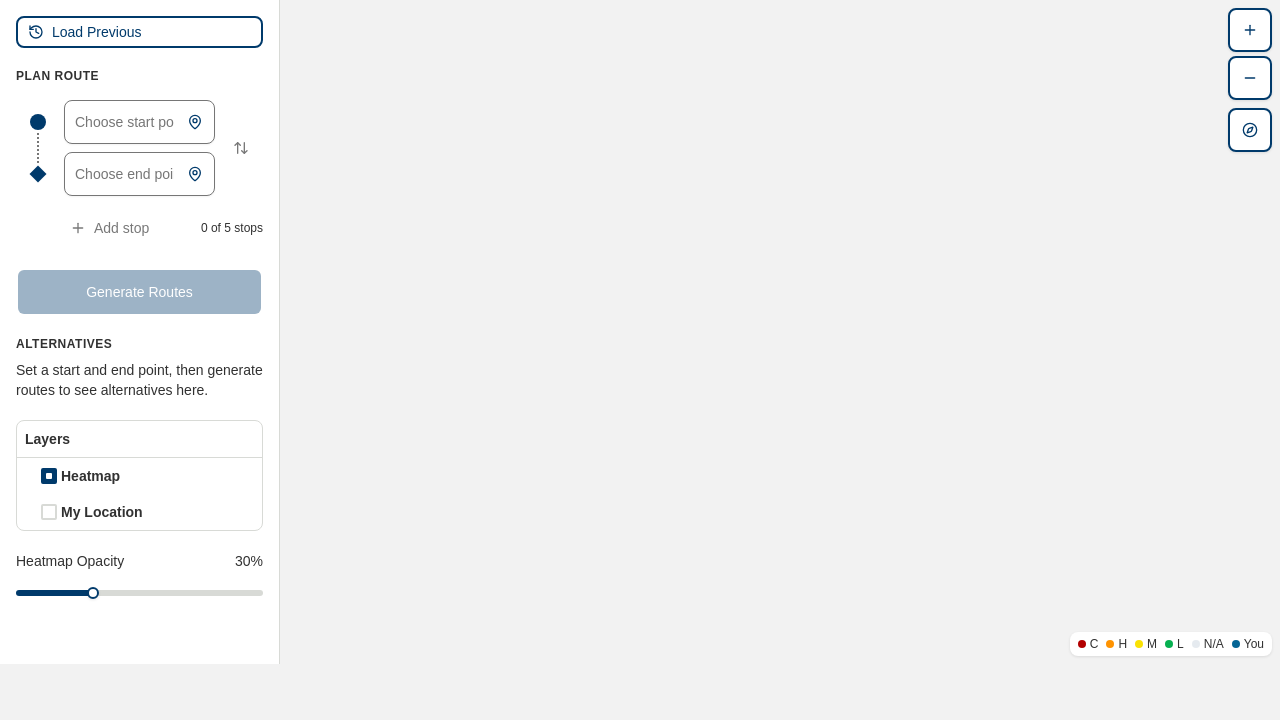
Scenario: PatrolPlannerPage › saves the selected route and marks its card as saved
In the field labelled "Choose start point": (140, 122) [64,100,215,144], type "-24.3, 31.05"
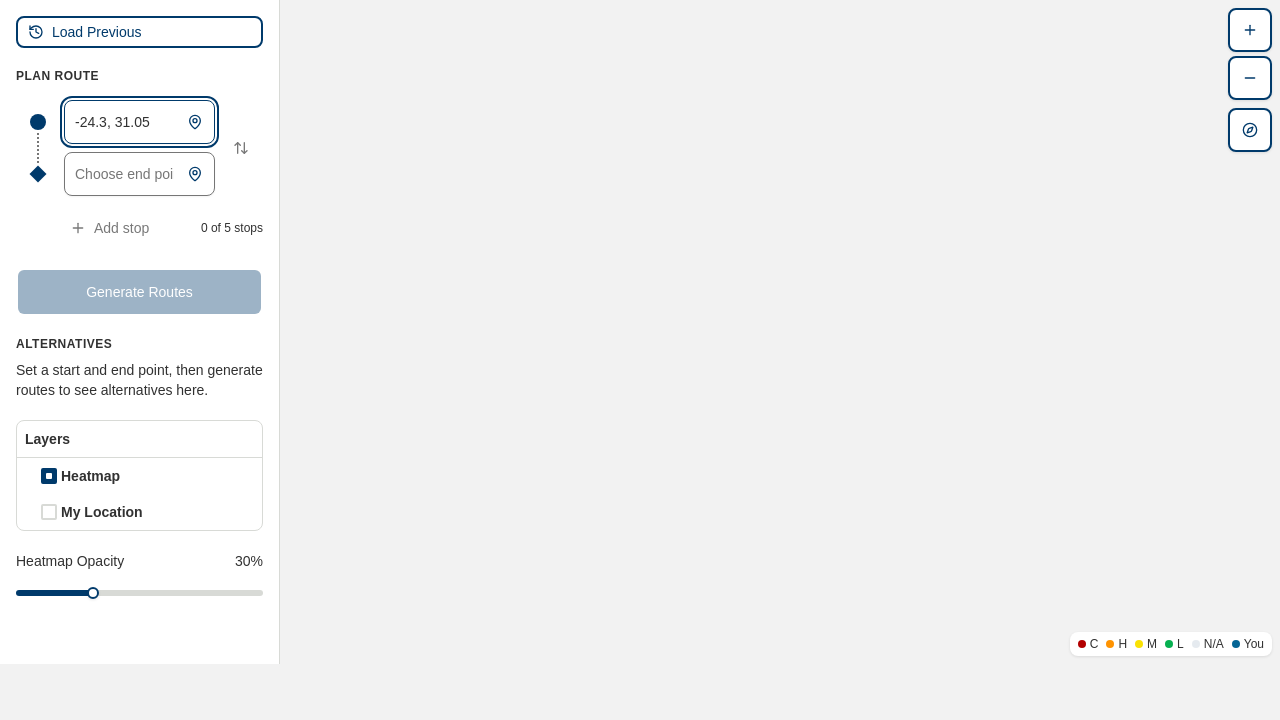
In the field labelled "Choose end point": (140, 174) [64,152,215,196], type "-24.32, 31.08"
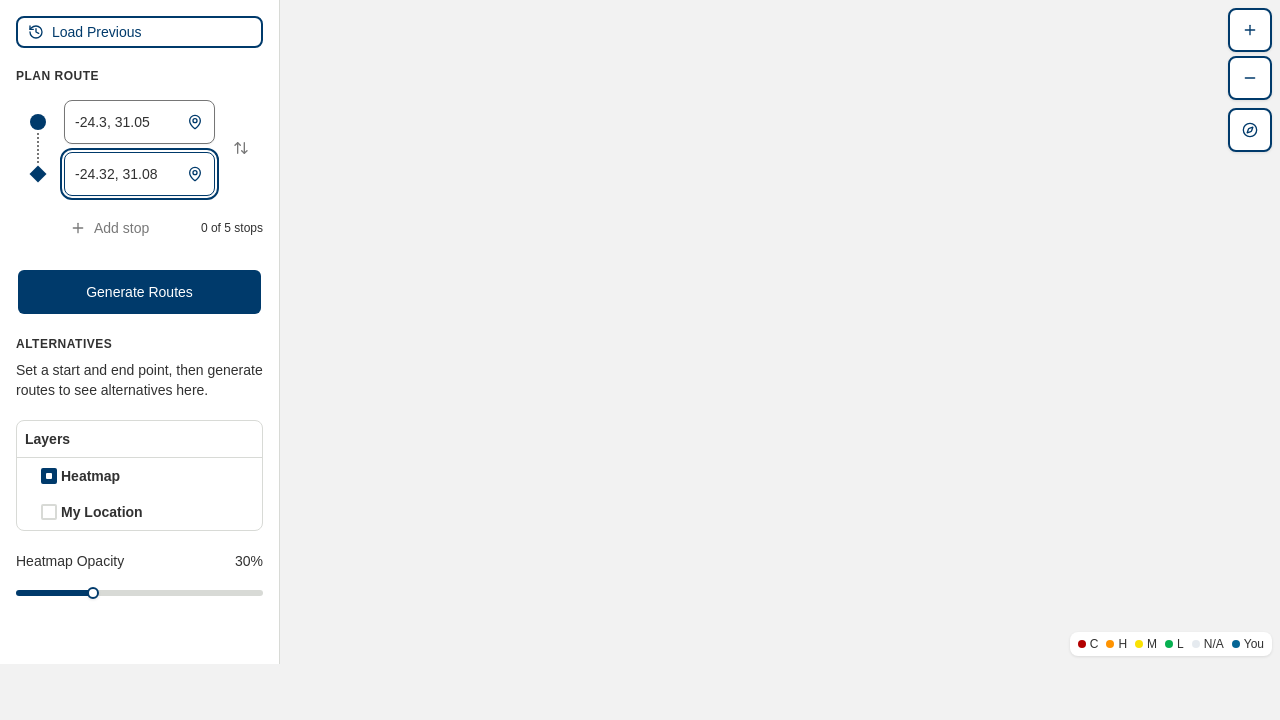
Click the button "Generate Routes": (140, 292) [16,268,263,316]
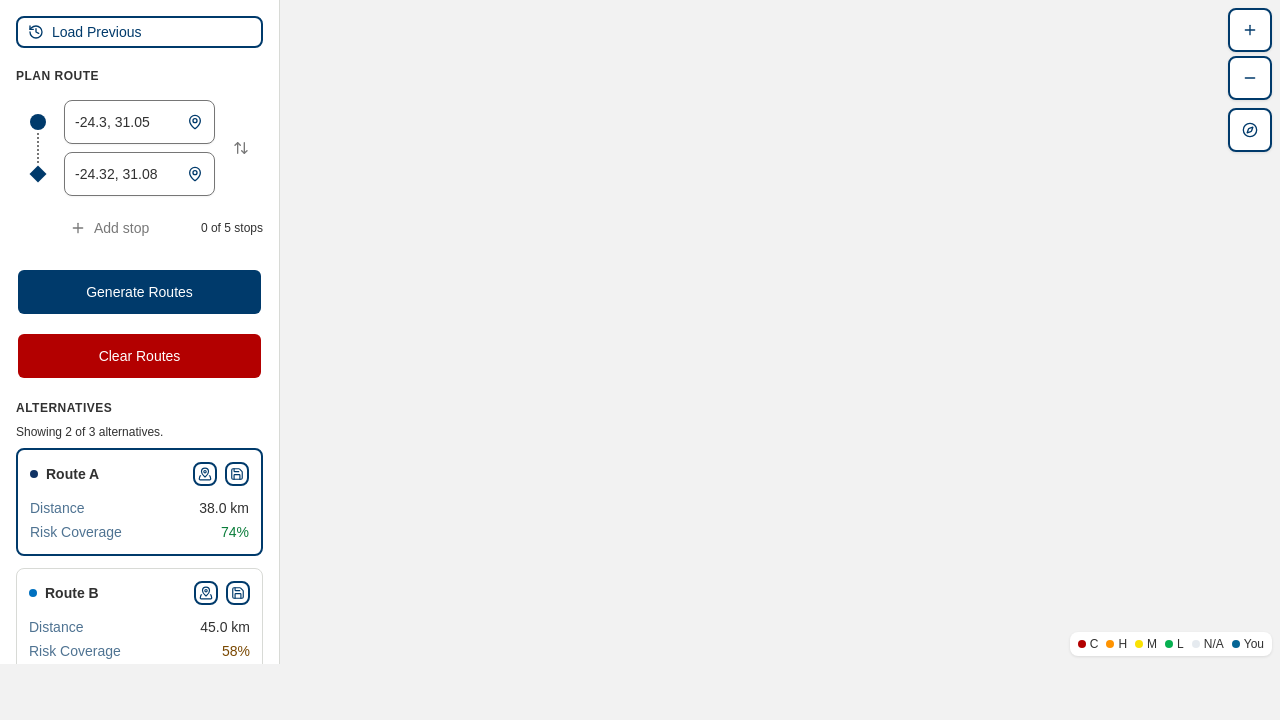
expect the button "Route A" is shown: met, box [46,464,185,484]
Click the button named "save route a": (237, 474) [225,462,249,486]
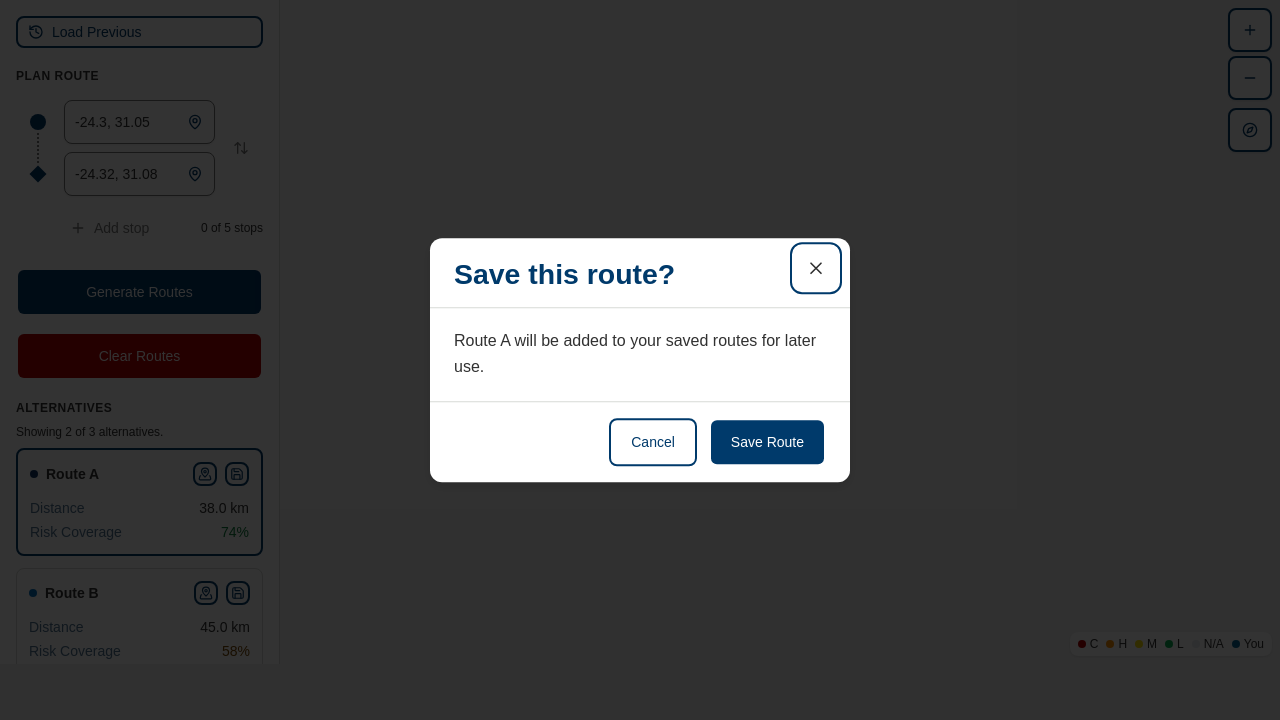
Click the button "Save Route": (767, 442) [709,418,826,466]
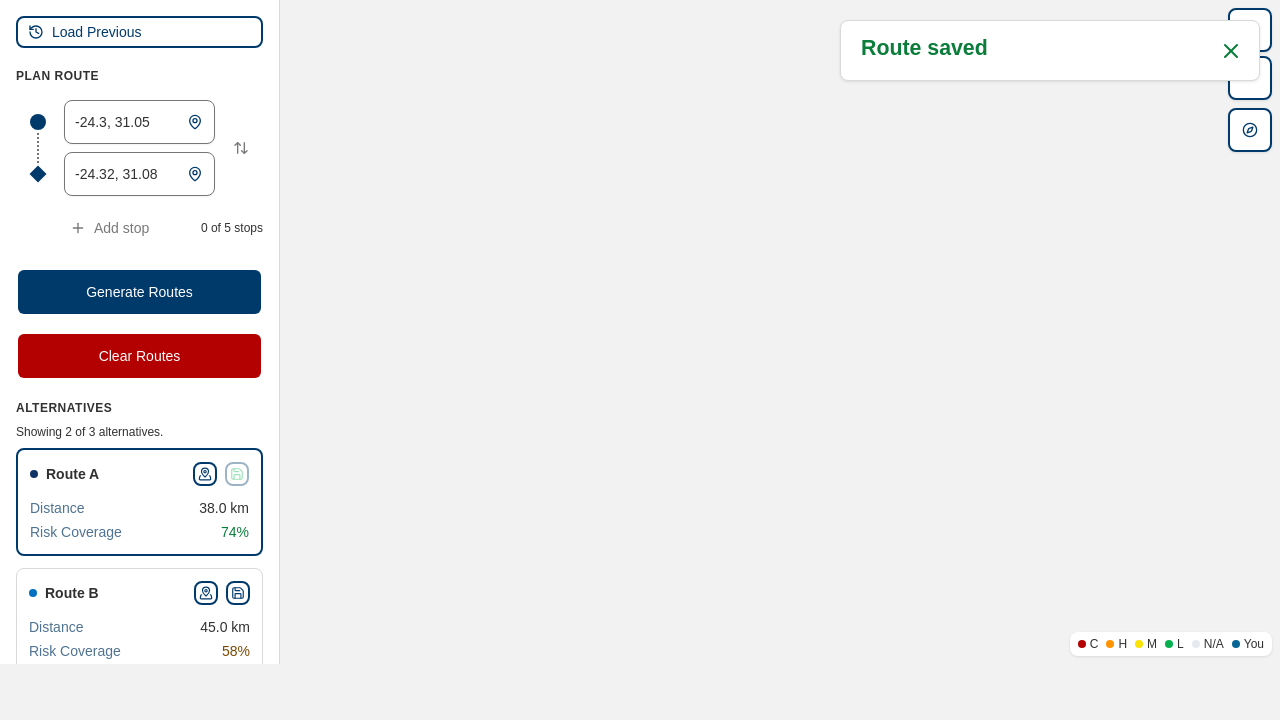
expect the text "Route saved" is shown: met, box [861,36,988,60]
expect the button named "route a saved" is disabled: met, box [225,462,249,486]
